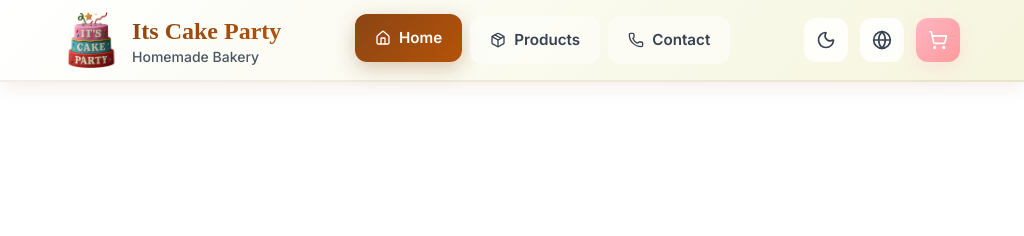
Localization Integration Tests › Navbar Localization › switches language when language dropdown option is clicked
Note: Open language dropdown
Click the button named "Change language" at coordinates (882, 40), box left=860, top=18, right=904, bottom=62
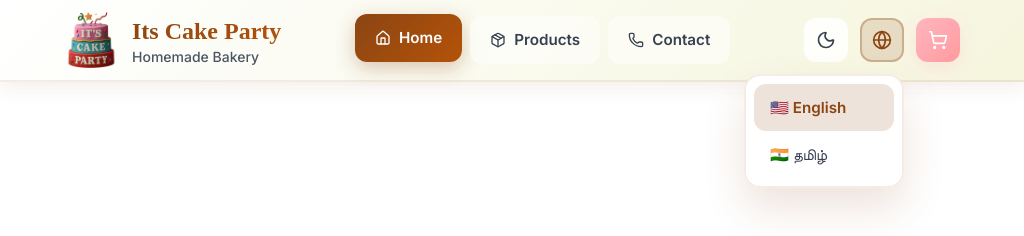
Click the button "🇮🇳 தமிழ்" at coordinates (824, 154), box left=754, top=131, right=894, bottom=178
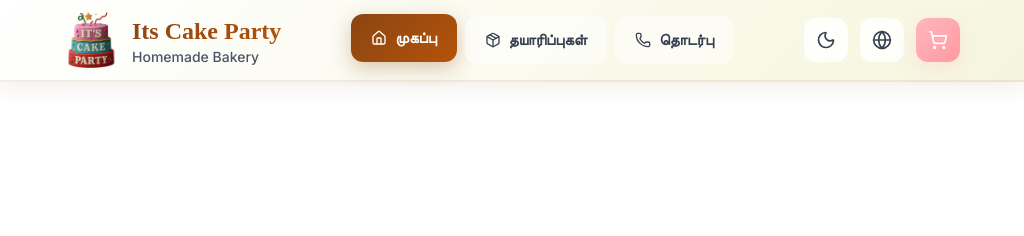
Now the text "முகப்பு" is shown, box left=395, top=26, right=436, bottom=50
